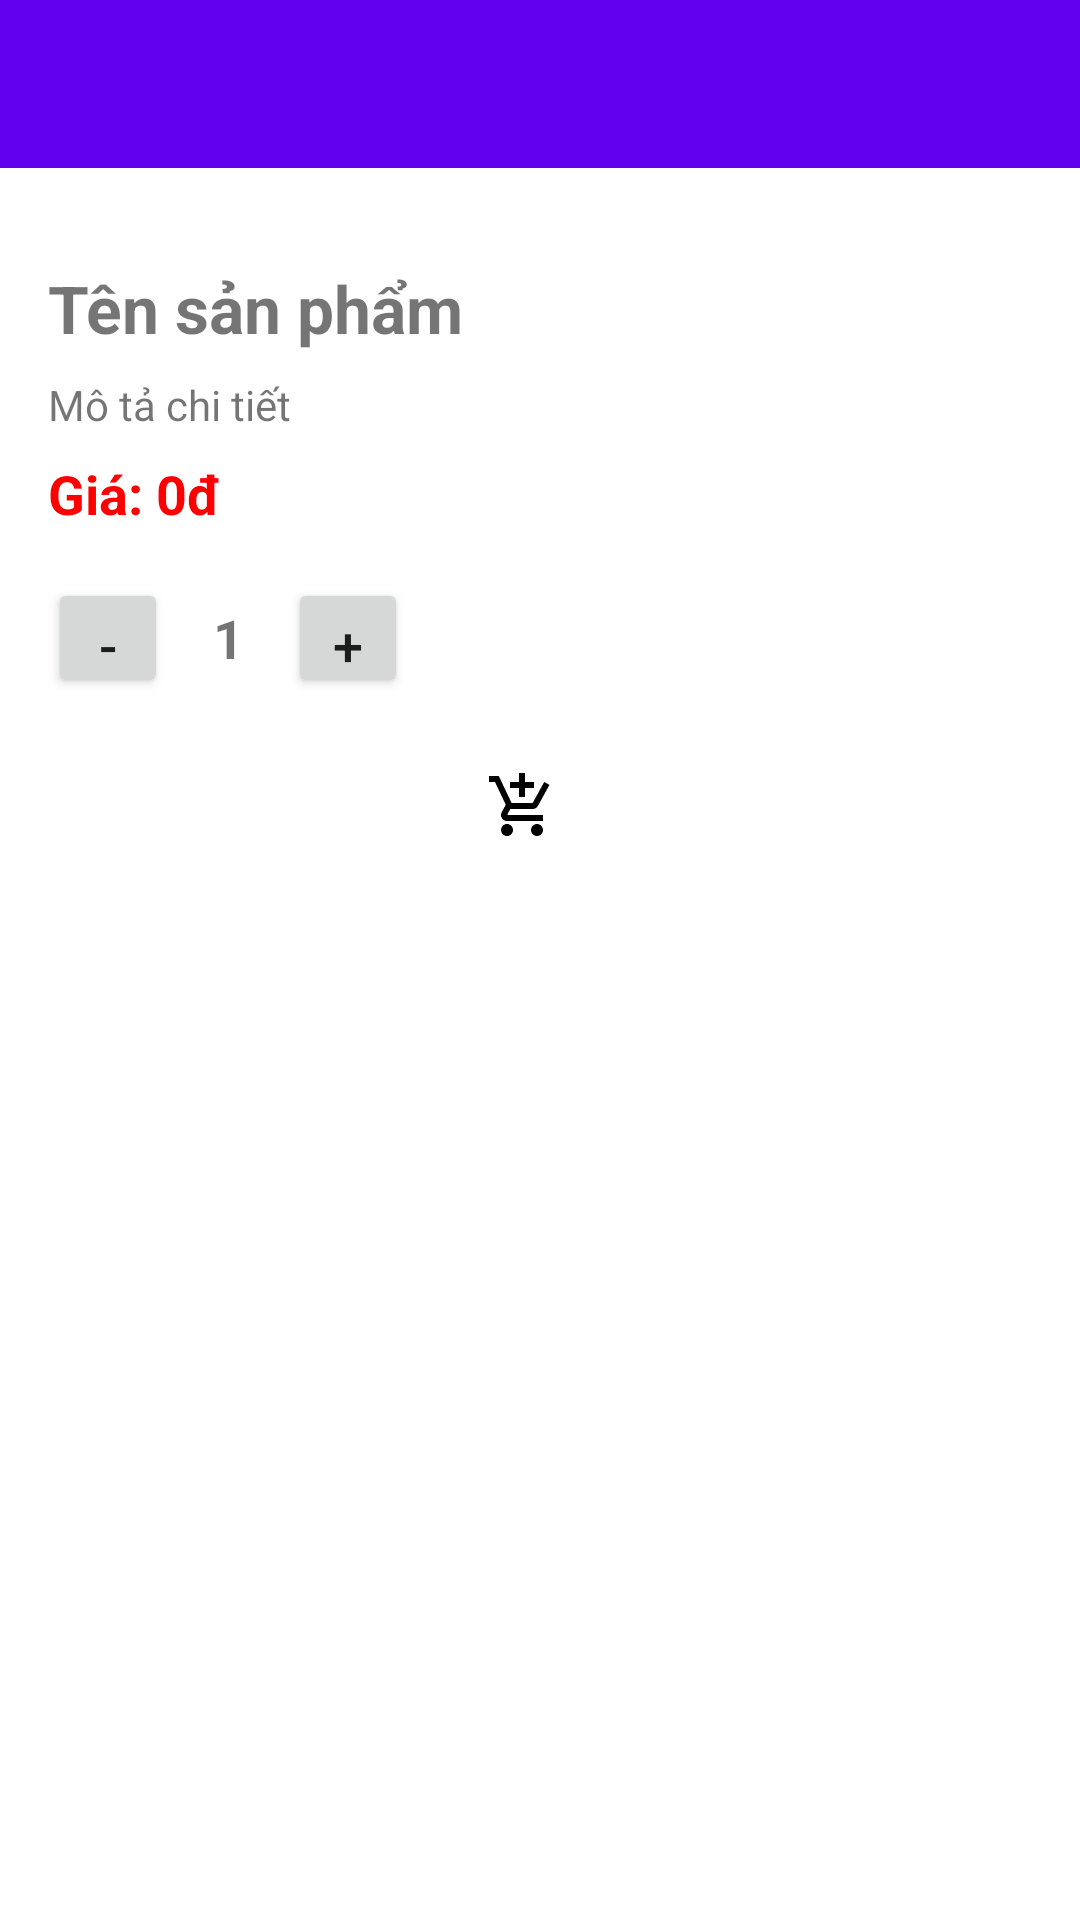

Icon bounding boxes for this 1080×1920 phone screenshot, format (x1, y1, x2, y2):
cart: (489, 773, 550, 836)
